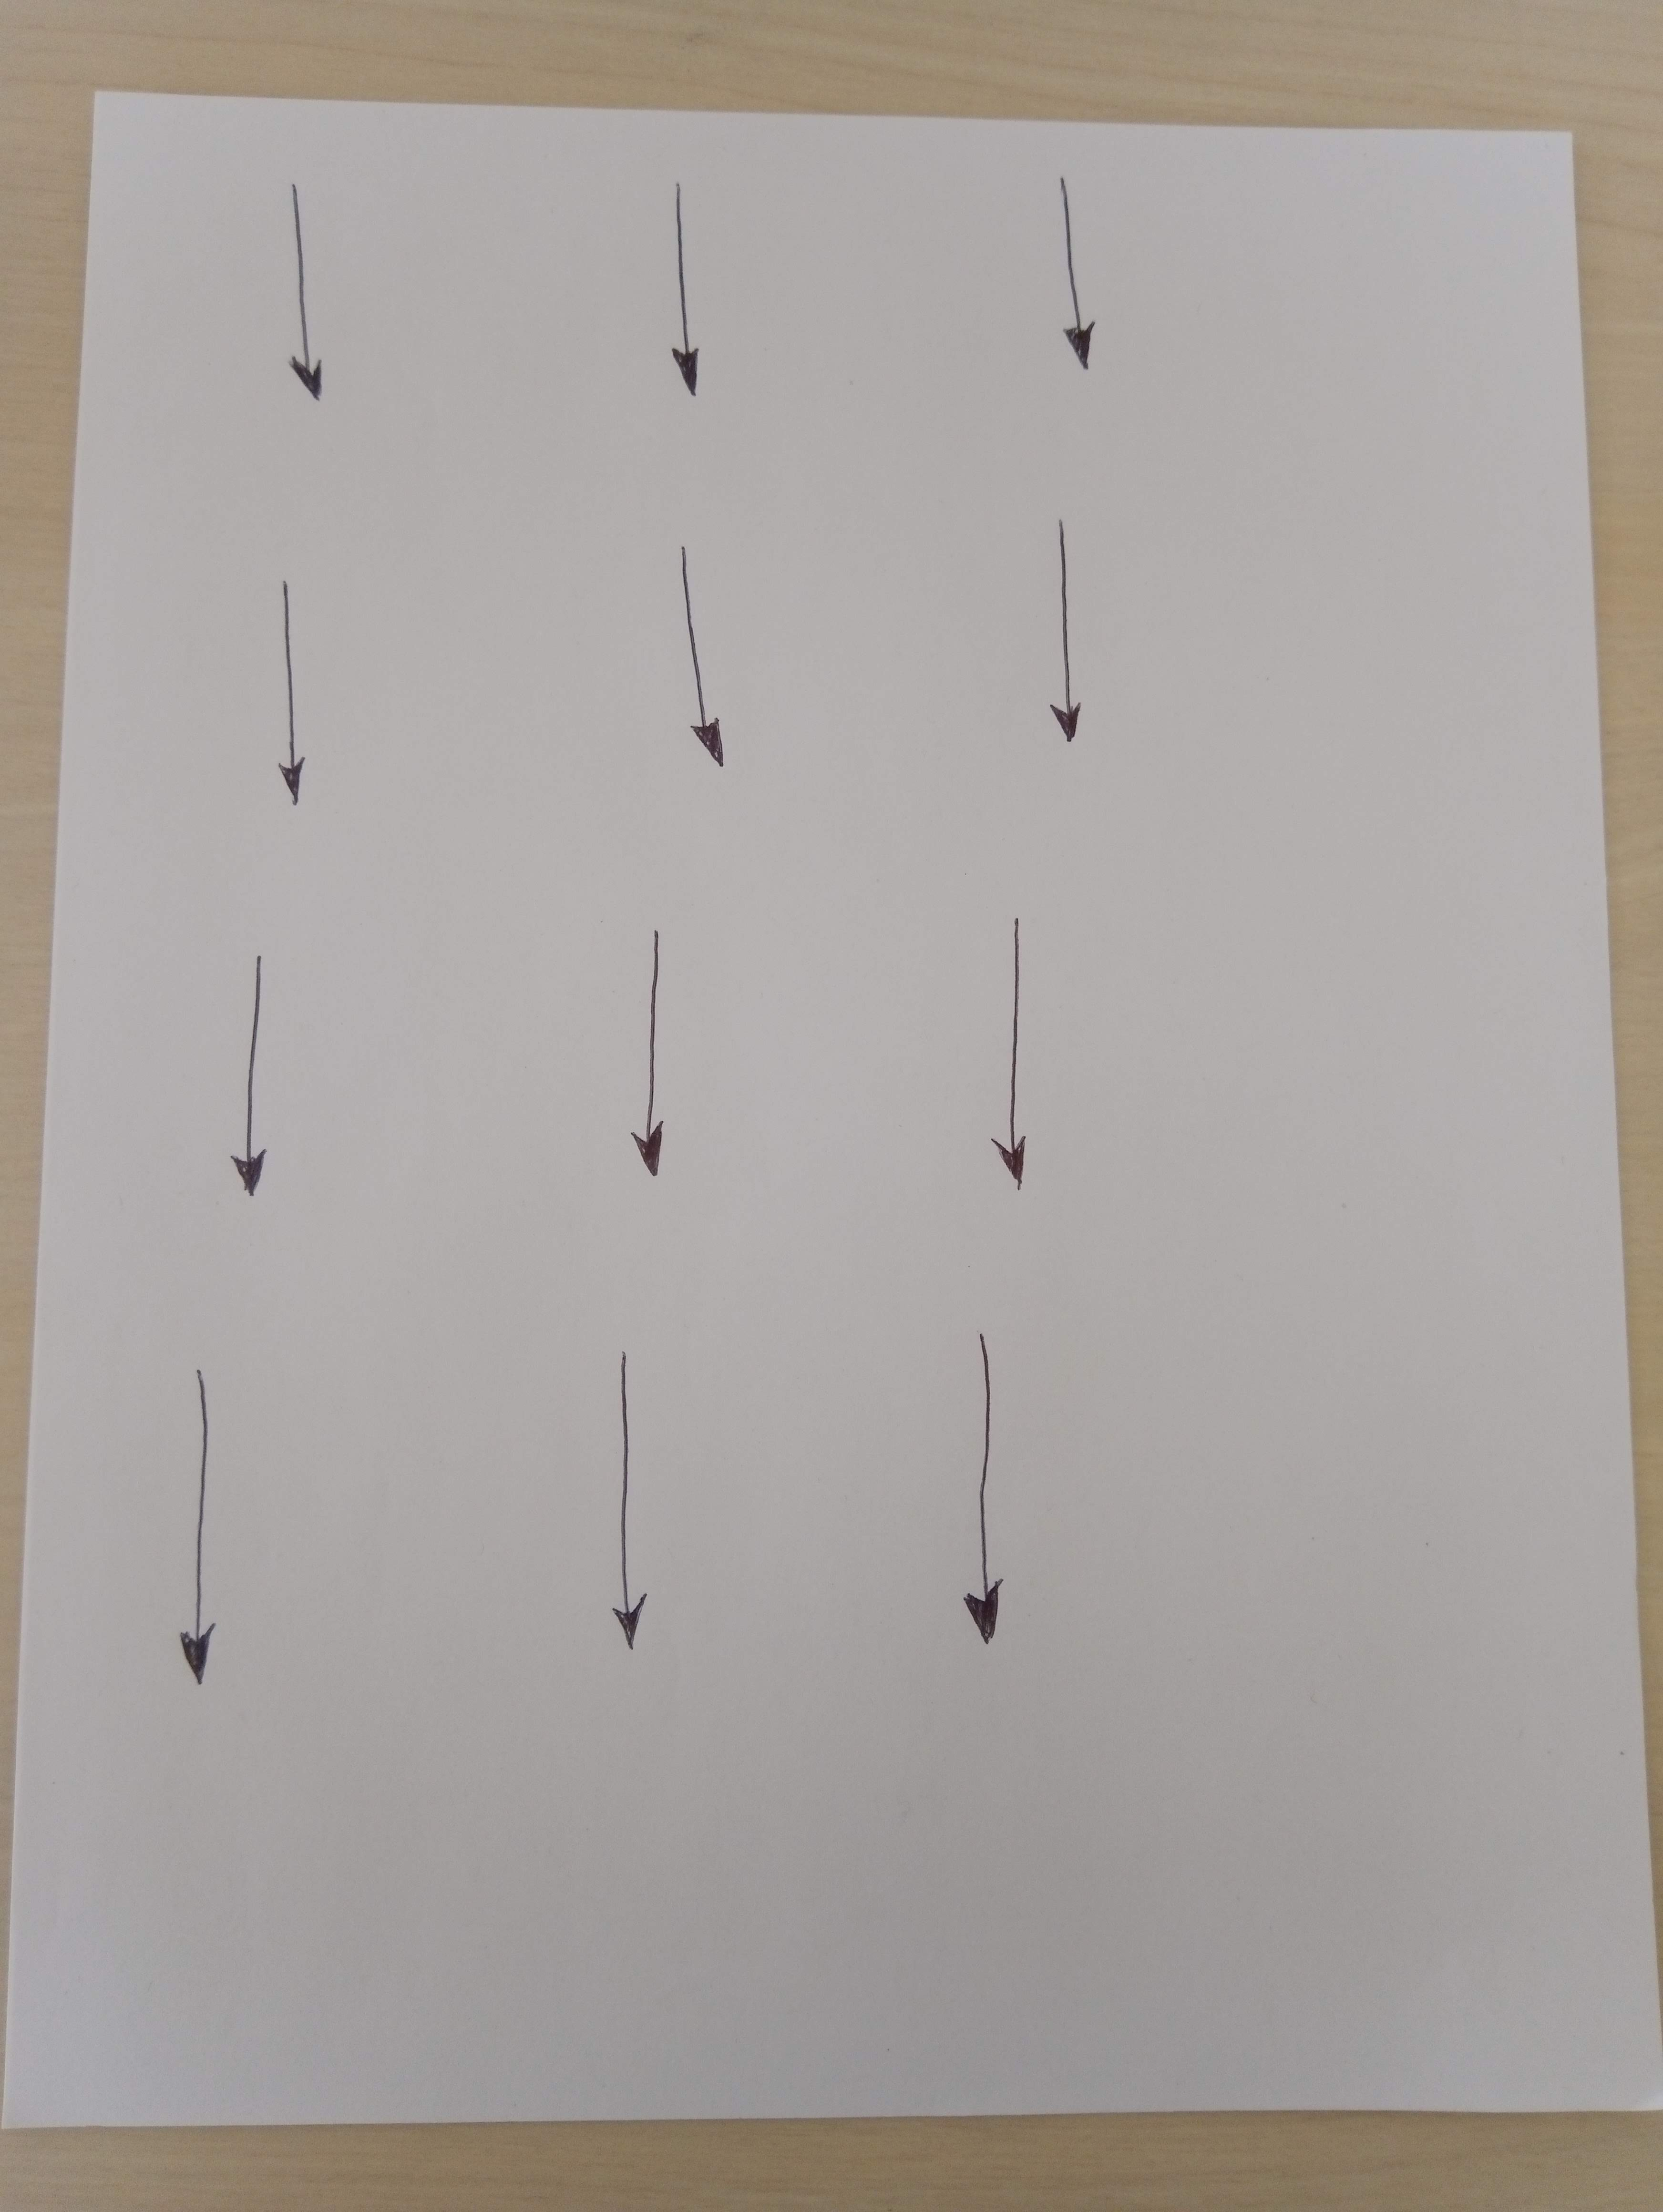arrow_line_down: (580, 1348, 683, 1678), (928, 1330, 1038, 1638), (152, 1381, 243, 1704), (213, 927, 316, 1208), (980, 908, 1071, 1219), (650, 538, 753, 787), (617, 911, 704, 1198), (257, 159, 353, 412), (1038, 512, 1123, 765), (1020, 178, 1123, 388), (627, 178, 723, 395), (253, 592, 349, 805)
